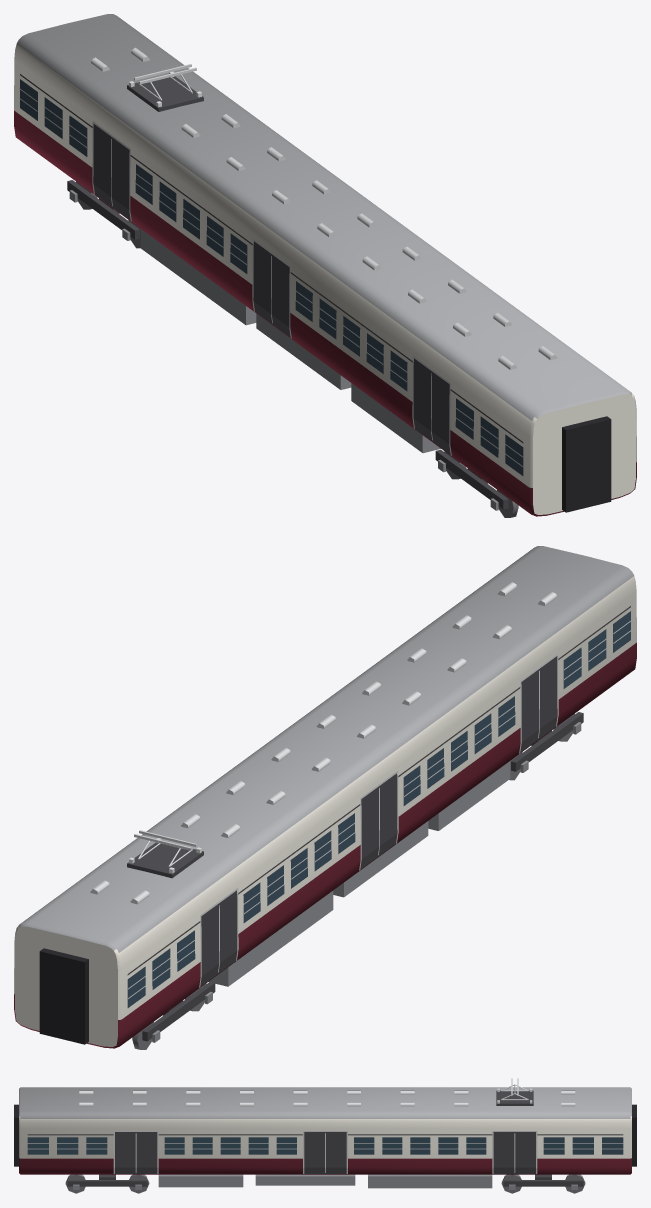
The model's file is middle_4.fbx.
The picture shows the model from 3 angles, top to bottom: view 1: azimuth 30°, elevation 25°; view 2: azimuth 150°, elevation 25°; view 3: azimuth 270°, elevation 25°; orthographic projection. The views are drawn at different scales.
Parts seen in each view (by area): view 1: 21_middle_4; view 2: 21_middle_4; view 3: 21_middle_4.
Boxes of the visible parts, <box> form: 21_middle_4: <box>14,14,636,517</box>; 21_middle_4: <box>14,546,636,1049</box>; 21_middle_4: <box>14,1078,636,1193</box>.
Size of the model in its own units: 2.97 by 4.35 by 25.
